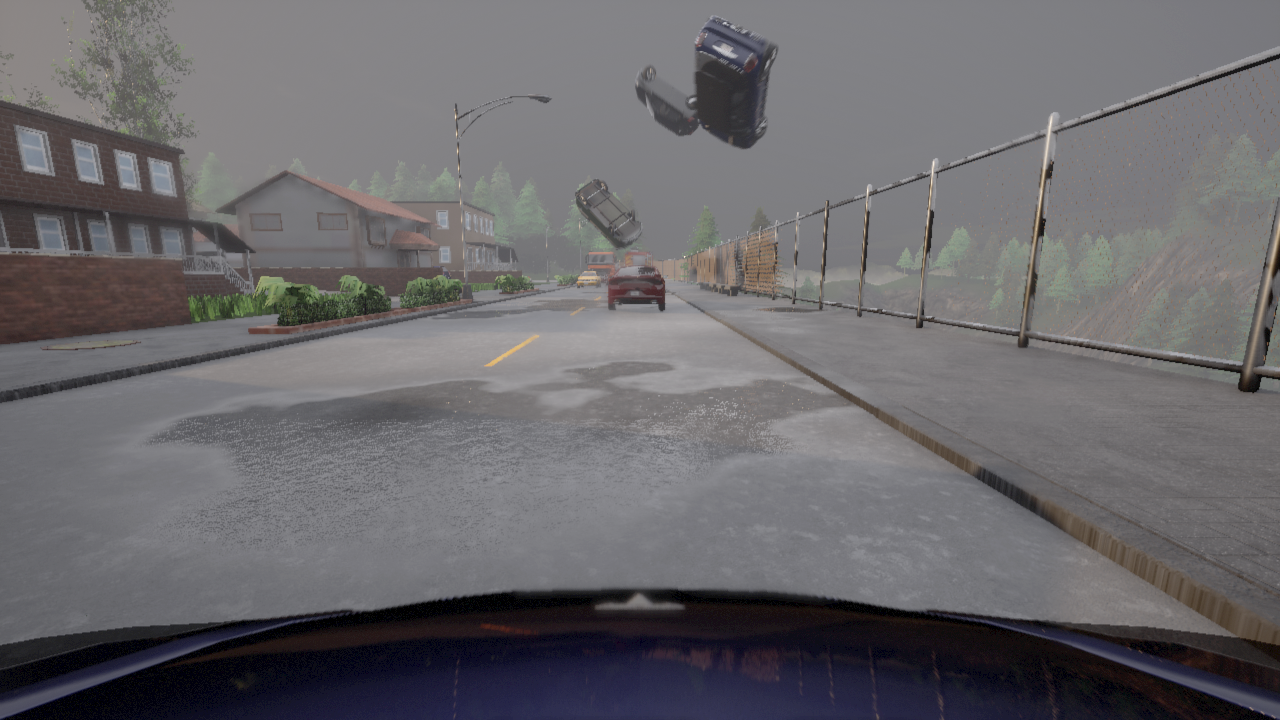cyclist: (0, 588, 1279, 719), (691, 15, 777, 149), (575, 179, 642, 250), (635, 66, 699, 135), (608, 265, 667, 310), (196, 251, 231, 282), (585, 251, 617, 279), (624, 247, 653, 265), (577, 270, 600, 287), (434, 266, 450, 279), (597, 272, 608, 285), (615, 263, 619, 271)
